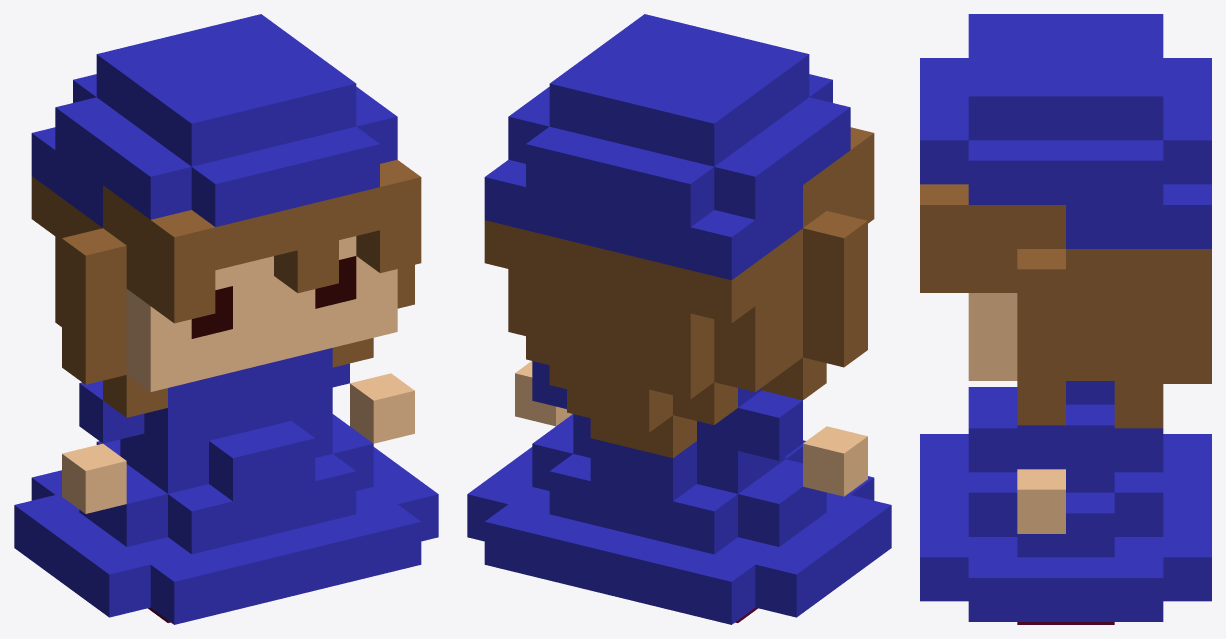
Rendered from hikari2x.obj.
The picture shows the model from 3 angles, left to right: view 1: azimuth 30°, elevation 25°; view 2: azimuth 150°, elevation 25°; view 3: azimuth 270°, elevation 25°; orthographic projection. The views are drawn at different scales.
Size of the model in its own units: 16 by 24 by 12.
1 material, 1 textured.
